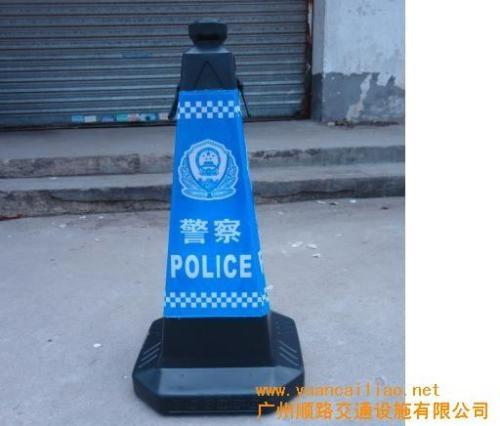cone_barrel: (132, 23, 304, 408)
